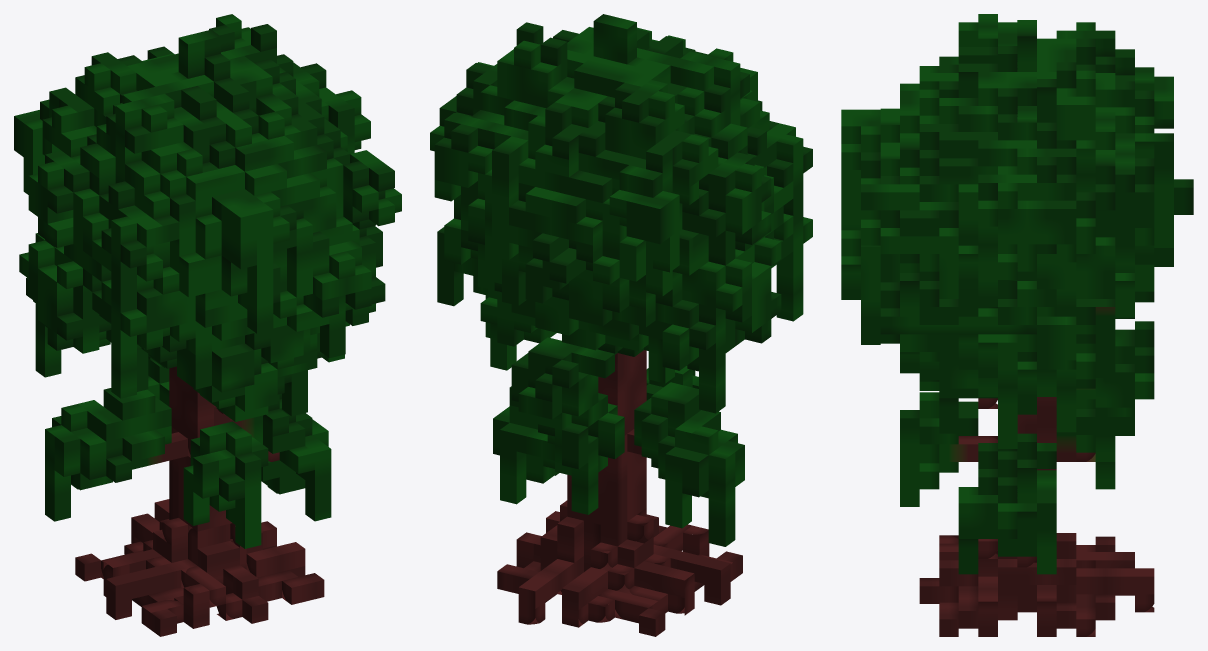
The model's file is drzewko_01.dae.
3 views of the same model, side by side, from view 1: azimuth 30°, elevation 25°; view 2: azimuth 150°, elevation 25°; view 3: azimuth 270°, elevation 25° (orthographic). The views are drawn at different scales.
Parts seen in each view (by area): view 1: Content; view 2: Content; view 3: Content.
Part boxes in pixels (<box>): Content: <box>14,14,401,636</box>; Content: <box>430,14,812,636</box>; Content: <box>841,14,1193,636</box>.
Size of the model in its own units: 18 by 32 by 18.
1 material, 1 textured.
